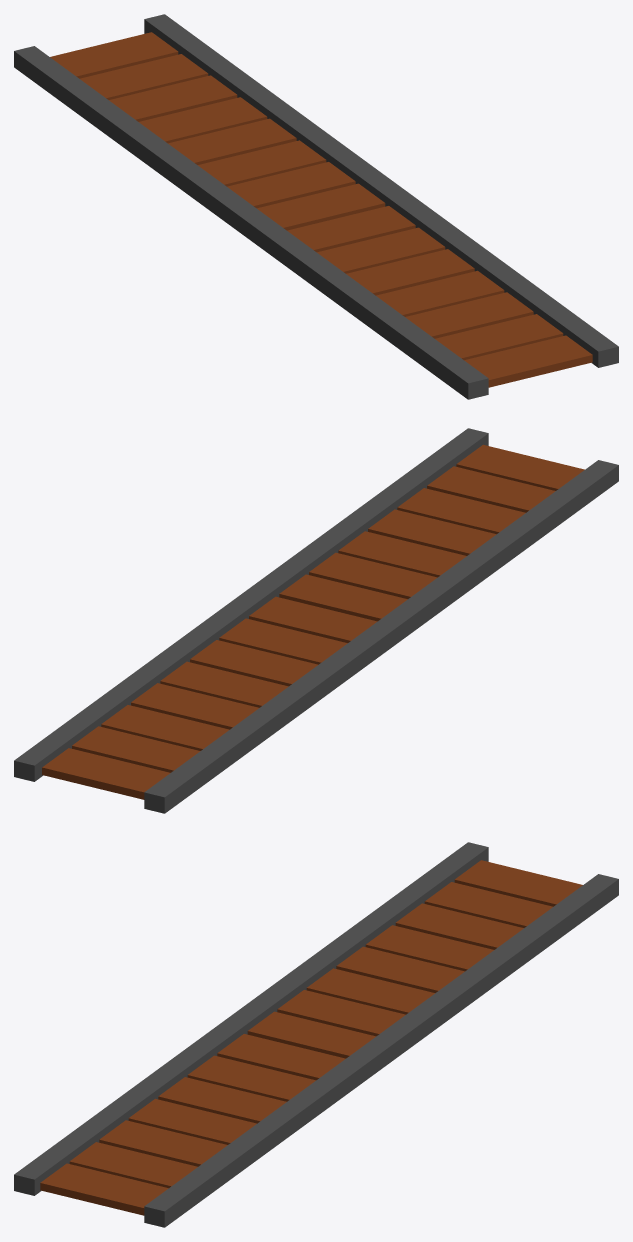
File: Brigh 1.fbx
3 renders of one model, top to bottom at view 1: azimuth 30°, elevation 25°; view 2: azimuth 150°, elevation 25°; view 3: azimuth 330°, elevation 25°, orthographic.
Parts seen in each view (by area): view 1: Cube; view 2: Cube; view 3: Cube.
Boxes of the visible parts, left/top/right/bottom form: Cube: left=14, top=14, right=618, bottom=399; Cube: left=14, top=428, right=618, bottom=813; Cube: left=14, top=842, right=618, bottom=1227.
Bounding box in the file's own units: 364 × 37.84 × 1900.
